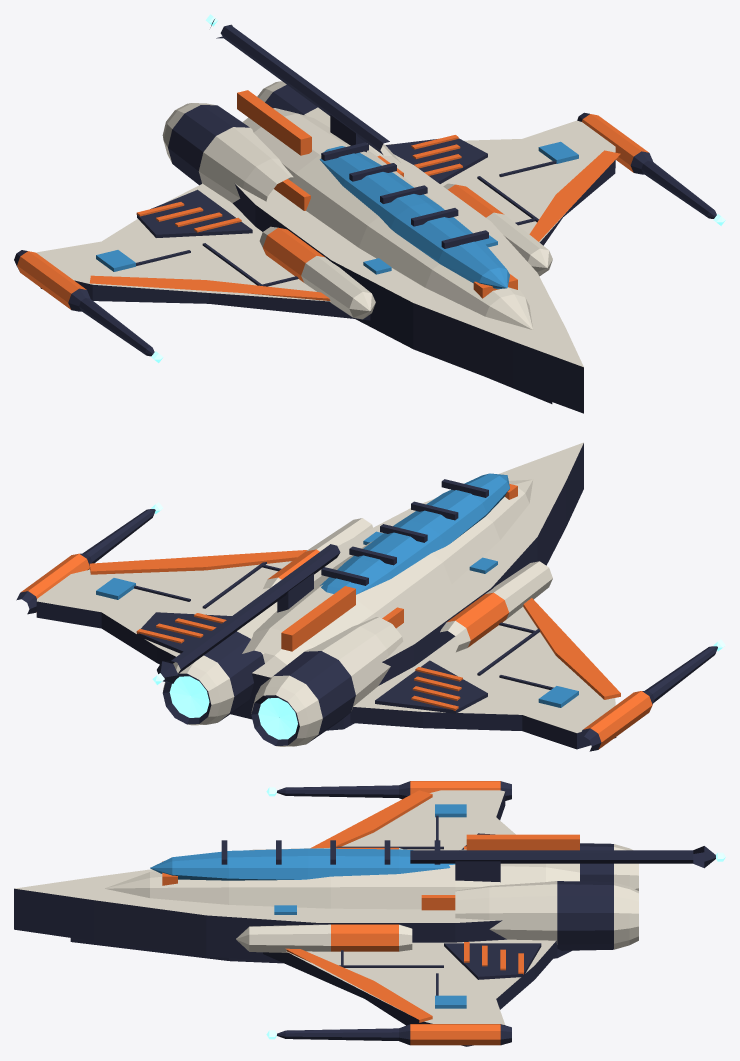
File: rts.interceptor.glb
3 renders of one model, top to bottom at view 1: azimuth 30°, elevation 25°; view 2: azimuth 150°, elevation 25°; view 3: azimuth 270°, elevation 25°, orthographic. The views are drawn at different scales.
Parts seen in each view (by area): view 1: rts.interceptor; view 2: rts.interceptor; view 3: rts.interceptor.
Part boxes in pixels (x1,y1,x2,y2): rts.interceptor: (14,14,725,413); rts.interceptor: (16,442,725,751); rts.interceptor: (14,781,725,1046).
Size of the model in its own units: 2.64 by 0.5133 by 3.14.
